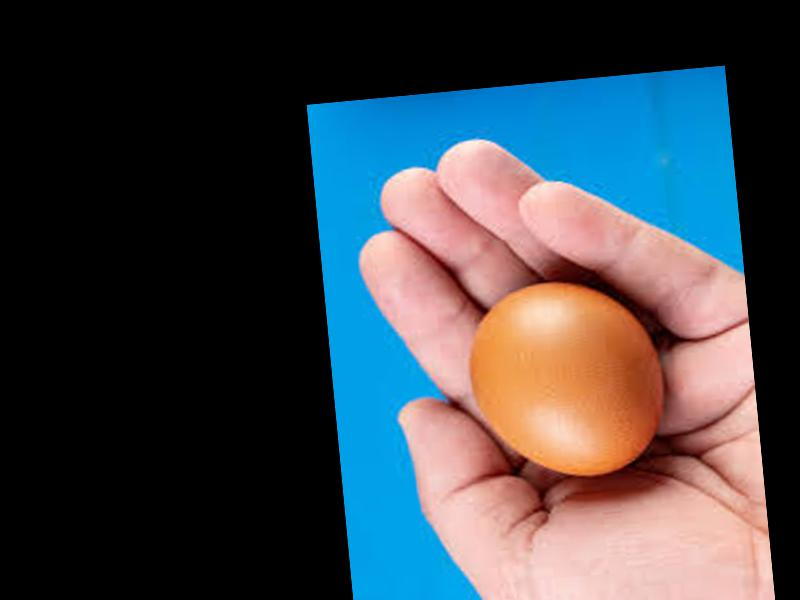Eggs: (462, 270, 666, 484)
